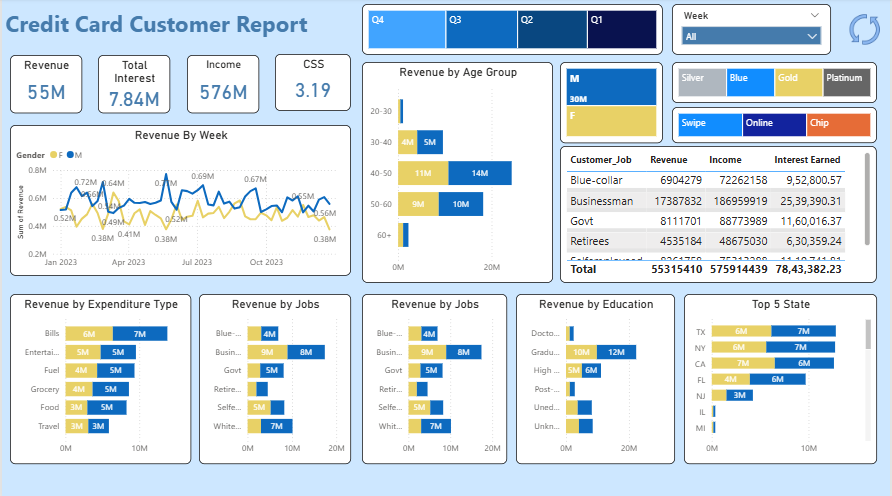

The page's visual inventory and layout, read from the dashboard file:
{"tool":"powerbi","page":{"name":"Customer Report","canvas":[1280,720],"ordinal":2},"visuals":[{"type":"textbox","box":[0,8.6,518.4,73.4],"z":0},{"type":"lineChart","title":" Revenue By Week","fields":{"Y":["Sum(credit_card.Revenue)"],"Category":["credit_card.Week_Start_Date.Variation.Date Hierarchy.Year","credit_card.Week_Start_Date.Variation.Date Hierarchy.Month","credit_card.Week_Start_Date.Variation.Date Hierarchy.Day"],"Series":["customer.Gender"]},"box":[11.5,182.9,491,217.4],"z":1000},{"type":"barChart","title":" Revenue by Expenditure Type","fields":{"Y":["Sum(credit_card.Revenue)"],"Category":["credit_card.Exp Type"],"Series":["customer.Gender"]},"box":[11.5,426.2,260.6,244.8],"z":2000},{"type":"barChart","title":" Top 5 State","fields":{"Y":["Sum(credit_card.Revenue)"],"Category":["customer.state_cd"],"Series":["customer.Gender"]},"box":[982.4,426.1,278.2,244.7],"z":3000},{"type":"tableEx","fields":{"Values":["customer.Customer_Job","Sum(credit_card.Revenue)","Sum(customer.Income)","Sum(credit_card.Interest_Earned)"]},"box":[803.5,213.1,456.5,197.3],"z":4000},{"type":"card","title":"Revenue","fields":{"Values":["Sum(credit_card.Revenue)"]},"box":[11.5,82.1,103.7,83.5],"z":5000},{"type":"card","title":"Total Interest","fields":{"Values":["Sum(credit_card.Interest_Earned)"]},"box":[138.7,82.1,103.7,83.5],"z":6000},{"type":"card","title":"Income","fields":{"Values":["Sum(customer.Income)"]},"box":[265.9,82.1,103.7,83.5],"z":7000},{"type":"card","title":"CSS","fields":{"Values":["Avg(customer.Cust_Satisfaction_Score)"]},"box":[393.1,80.6,109.4,82.1],"z":8000},{"type":"slicer","fields":{"Values":["credit_card.Week_Start_Date"]},"box":[964.8,8.6,229,73.4],"z":9000},{"type":"treemap","fields":{"Group":["credit_card.Qtr"],"Values":["Avg(credit_card.Client_Num)"]},"box":[518.4,8.6,433.4,73.4],"z":10000},{"type":"image","box":[1205.3,17.3,74.9,56.2],"z":11000},{"type":"treemap","fields":{"Group":["customer.Gender"],"Values":["Sum(credit_card.Revenue)"]},"box":[803.5,92.2,148.3,116.6],"z":12000},{"type":"barChart","title":" Revenue by Age Group","fields":{"Y":["Sum(credit_card.Revenue)"],"Category":["customer.AgeGroup"],"Series":["customer.Gender"]},"box":[518.4,92.2,275,318.2],"z":13000},{"type":"barChart","title":" Revenue by Jobs","fields":{"Y":["Sum(credit_card.Revenue)"],"Category":["customer.Customer_Job"],"Series":["customer.Gender"]},"box":[518.6,426.2,208.8,244.8],"z":14000},{"type":"barChart","title":" Revenue by Education","fields":{"Y":["Sum(credit_card.Revenue)"],"Category":["customer.Education_Level"],"Series":["customer.Gender"]},"box":[740.4,426.2,229,244.8],"z":15000},{"type":"barChart","title":" Revenue by Jobs","fields":{"Y":["Sum(credit_card.Revenue)"],"Category":["customer.Customer_Job"],"Series":["customer.Gender"]},"box":[283.7,426.2,218.9,244.8],"z":16000},{"type":"treemap","fields":{"Values":["Avg(credit_card.Client_Num)"],"Group":["credit_card.Use Chip"]},"box":[964.8,157,295.2,51.8],"z":17000},{"type":"treemap","fields":{"Group":["credit_card.Card_Category"],"Values":["Avg(credit_card.Client_Num)"]},"box":[964.8,92.2,295.2,59],"z":18000}]}

Visuals, with their boxes in screenshot pixels (x1, y1, x2, y2), scaled from the page's 1280x720 canvas onto the 892x496 screenshot:
textbox: [x1=0, y1=6, x2=361, y2=56]
" Revenue By Week" lineChart: [x1=8, y1=126, x2=350, y2=276]
" Revenue by Expenditure Type" barChart: [x1=8, y1=294, x2=190, y2=462]
" Top 5 State" barChart: [x1=685, y1=294, x2=878, y2=462]
tableEx - customer.Customer_Job x Sum(credit_card.Revenue): [x1=560, y1=147, x2=878, y2=283]
"Revenue" card: [x1=8, y1=57, x2=80, y2=114]
"Total Interest" card: [x1=97, y1=57, x2=169, y2=114]
"Income" card: [x1=185, y1=57, x2=258, y2=114]
"CSS" card: [x1=274, y1=56, x2=350, y2=112]
slicer - credit_card.Week_Start_Date: [x1=672, y1=6, x2=832, y2=56]
treemap - credit_card.Qtr x Avg(credit_card.Client_Num): [x1=361, y1=6, x2=663, y2=56]
image: [x1=840, y1=12, x2=891, y2=51]
treemap - customer.Gender x Sum(credit_card.Revenue): [x1=560, y1=64, x2=663, y2=144]
" Revenue by Age Group" barChart: [x1=361, y1=64, x2=553, y2=283]
" Revenue by Jobs" barChart: [x1=361, y1=294, x2=507, y2=462]
" Revenue by Education" barChart: [x1=516, y1=294, x2=676, y2=462]
" Revenue by Jobs" barChart: [x1=198, y1=294, x2=350, y2=462]
treemap - Avg(credit_card.Client_Num) x credit_card.Use Chip: [x1=672, y1=108, x2=878, y2=144]
treemap - credit_card.Card_Category x Avg(credit_card.Client_Num): [x1=672, y1=64, x2=878, y2=104]
